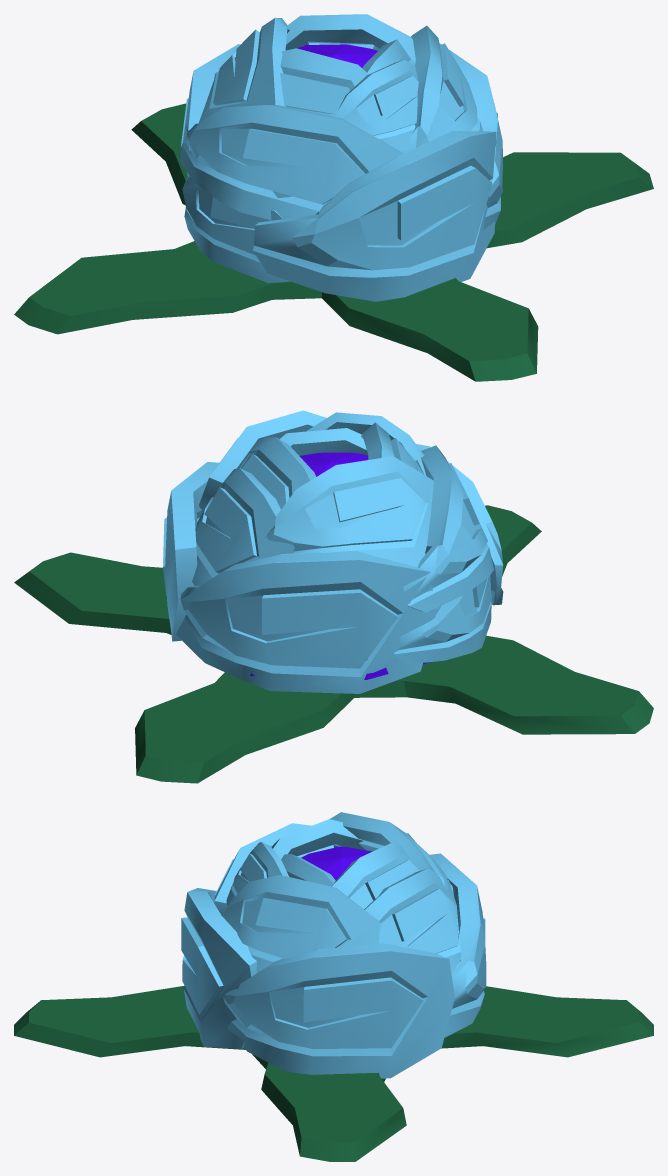
Rendered from Wind Fruit.fbx.
3 renders of one model, top to bottom at view 1: azimuth 30°, elevation 25°; view 2: azimuth 150°, elevation 25°; view 3: azimuth 270°, elevation 25°, orthographic. The views are drawn at different scales.
Parts seen in each view (by area): view 1: polySurface28, pCube18; view 2: polySurface28, pCube18; view 3: polySurface28, pCube18.
Boxes of the visible parts, x1,y1,x2,y2 form: polySurface28: [180, 14, 502, 301]; pCube18: [14, 103, 653, 381]; polySurface28: [163, 410, 503, 693]; pCube18: [14, 505, 653, 783]; polySurface28: [181, 812, 486, 1078]; pCube18: [14, 985, 653, 1161].
Bounding box in the file's own units: 205 × 67.77 × 205.
